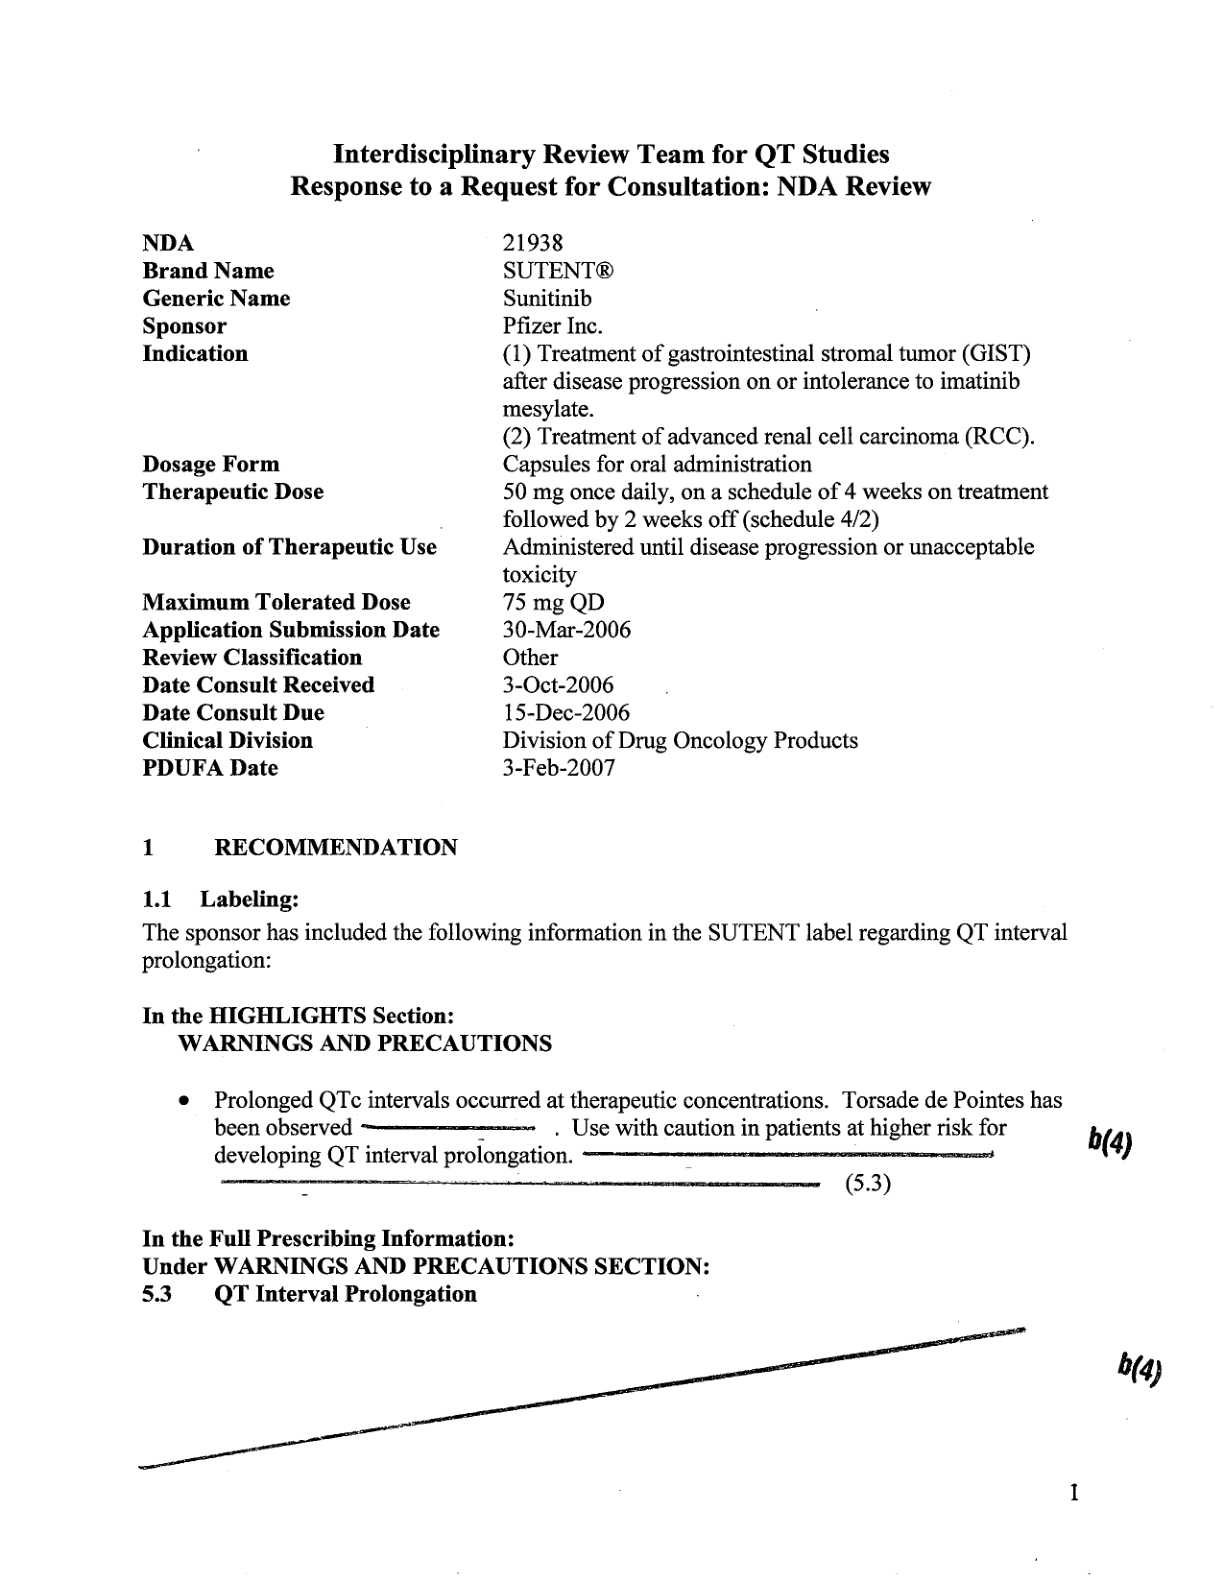nolines: (137, 229, 1052, 782)
